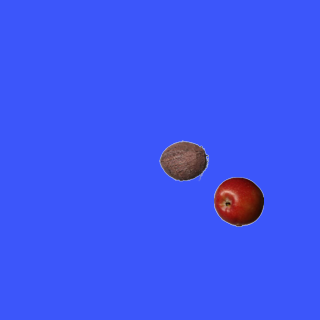Apple Braeburn: (213, 176, 263, 226)
Cocos: (158, 135, 208, 185)
